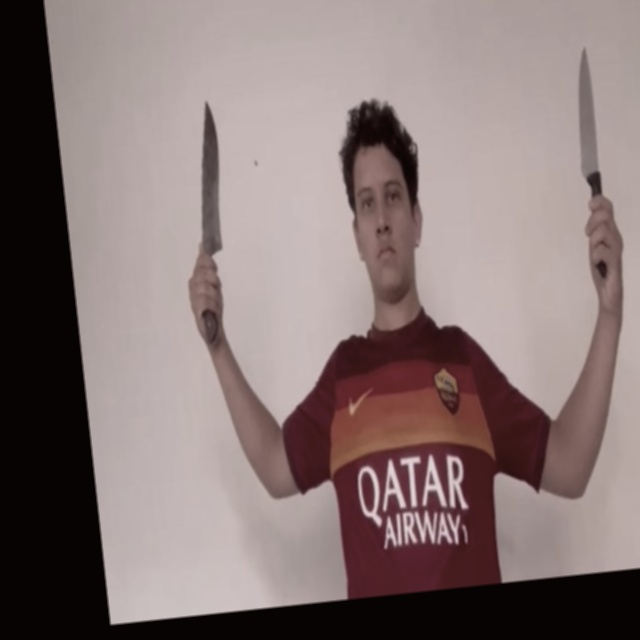Sharp-Object: (568, 46, 601, 178)
